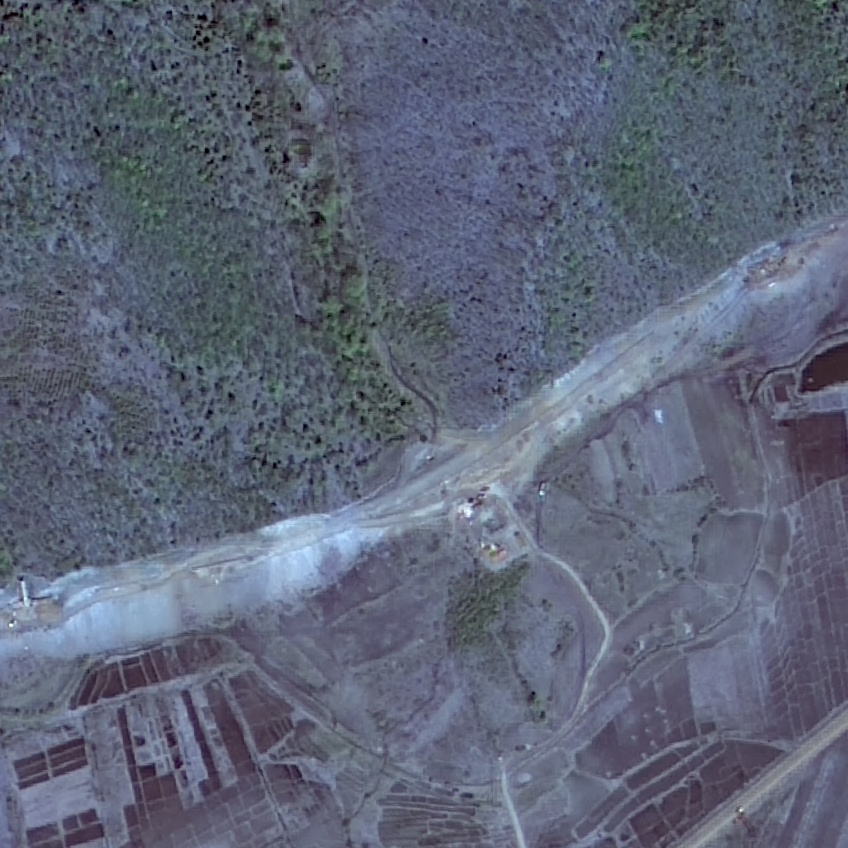slope: (744, 230, 839, 289)
